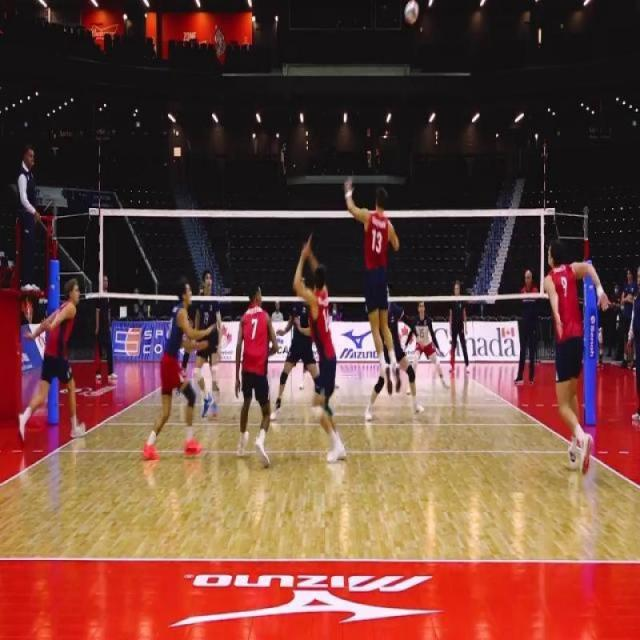volleyball: (404, 0, 419, 27)
